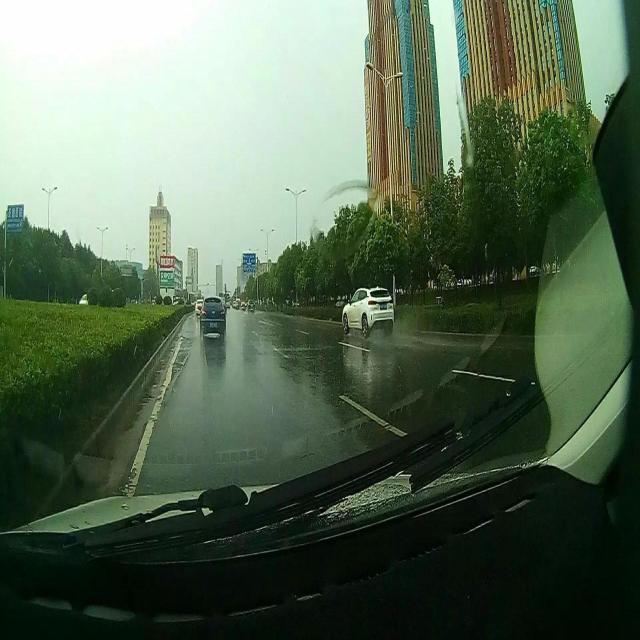car: (340, 284, 394, 334), (197, 294, 227, 336)
